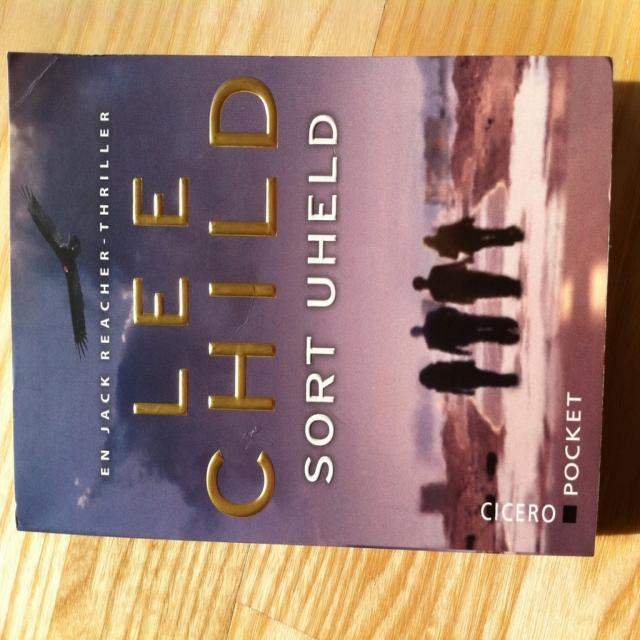book: (11, 43, 618, 595)
